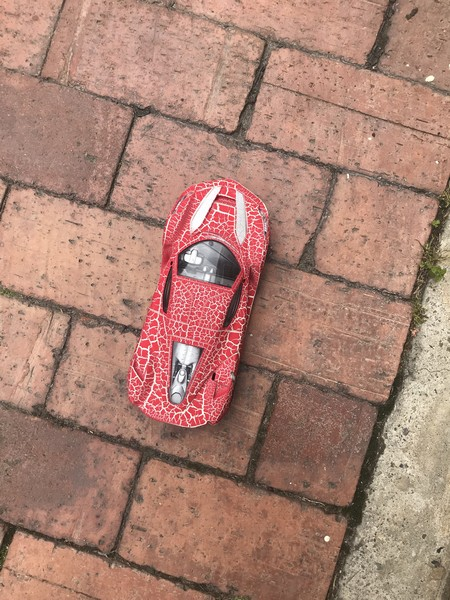RC: (123, 178, 273, 430)
